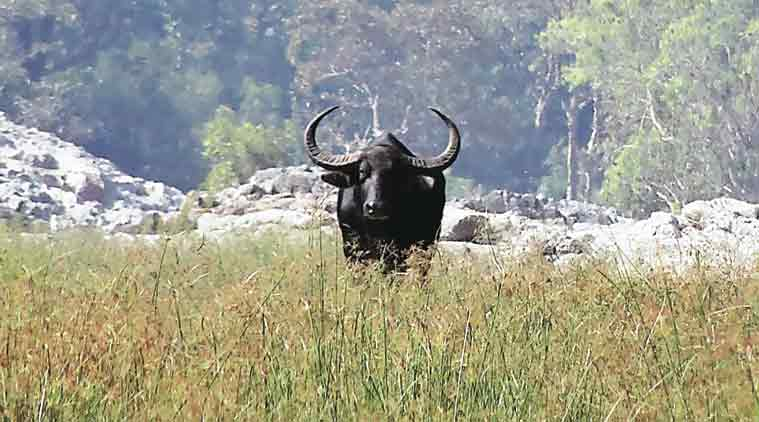buffalo: (298, 95, 463, 267)
